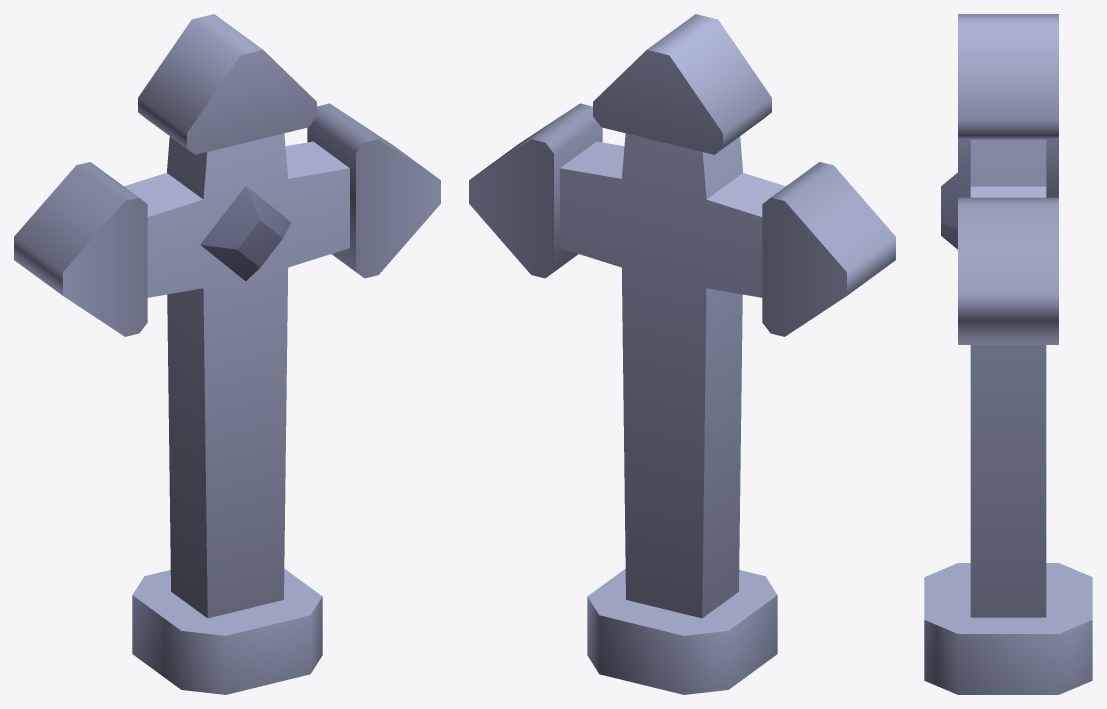
The model's file is cross.001.004.001_lev1.glb.
3 renders of one model, left to right at view 1: azimuth 30°, elevation 25°; view 2: azimuth 150°, elevation 25°; view 3: azimuth 270°, elevation 25°, orthographic. The views are drawn at different scales.
Visible parts, largest first — view 1: cross.001.004.001_lev1; view 2: cross.001.004.001_lev1; view 3: cross.001.004.001_lev1.
Part boxes in pixels (x1,y1,x2,y2): cross.001.004.001_lev1: [14, 14, 440, 694]; cross.001.004.001_lev1: [469, 14, 895, 694]; cross.001.004.001_lev1: [924, 14, 1092, 694].
Bounding box in the file's own units: 2.68 × 4.2 × 1.
1 material, 1 textured.
